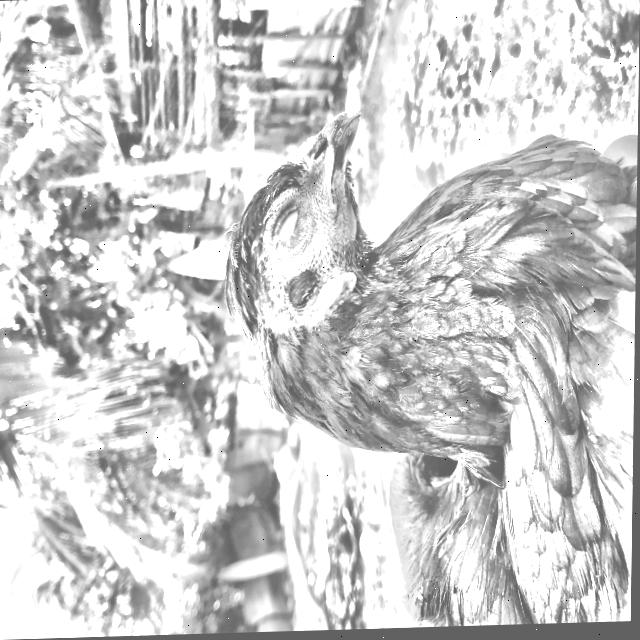Coryza: (194, 82, 639, 635)
